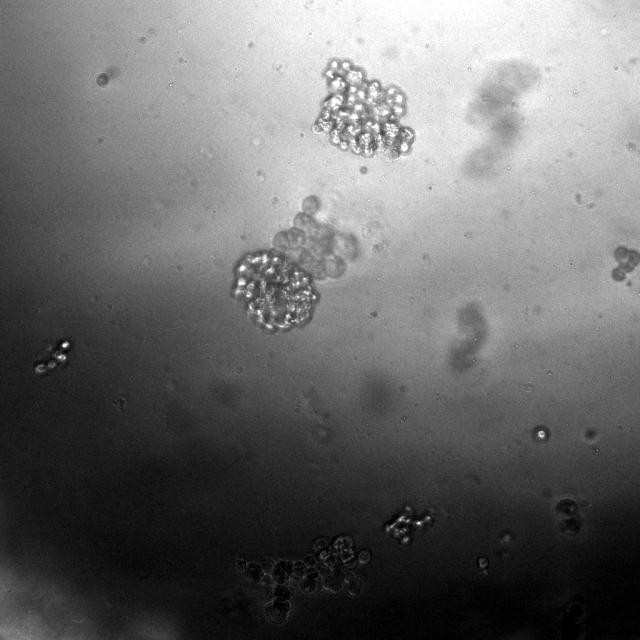organoid: (236, 534, 371, 624), (312, 59, 415, 160), (272, 195, 359, 280), (232, 249, 318, 331), (384, 505, 434, 545), (34, 339, 71, 374), (554, 497, 582, 539), (611, 245, 639, 281), (96, 72, 110, 88)
